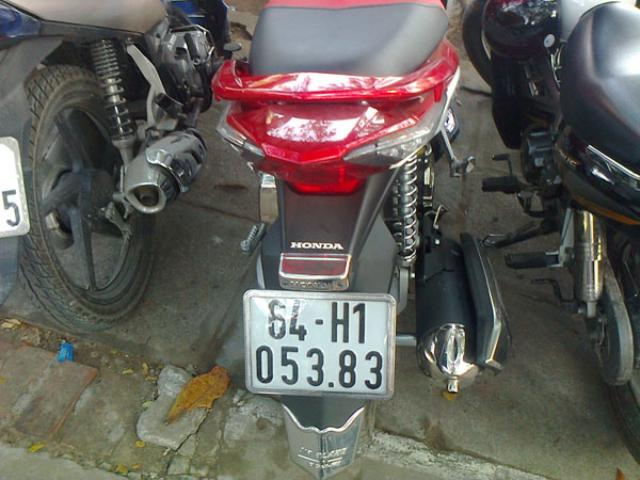plate: (249, 294, 395, 396)
